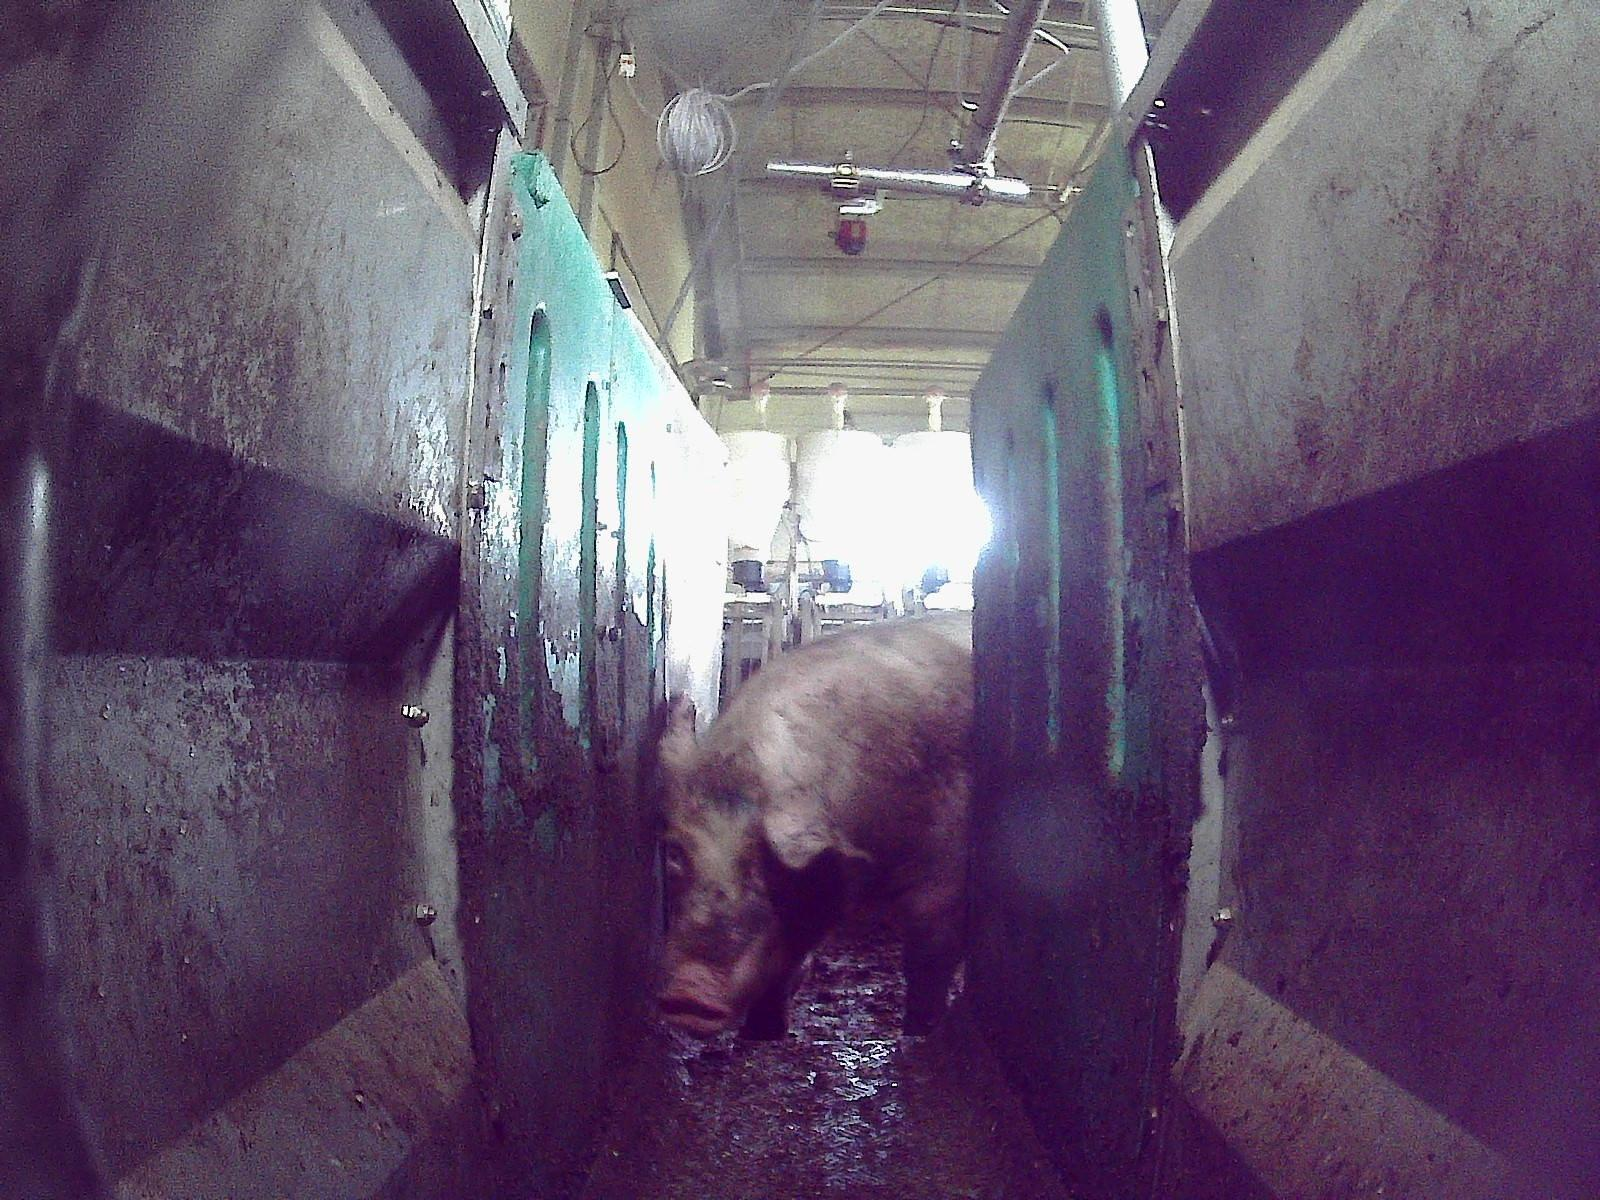Face: (654, 776, 825, 1032)
